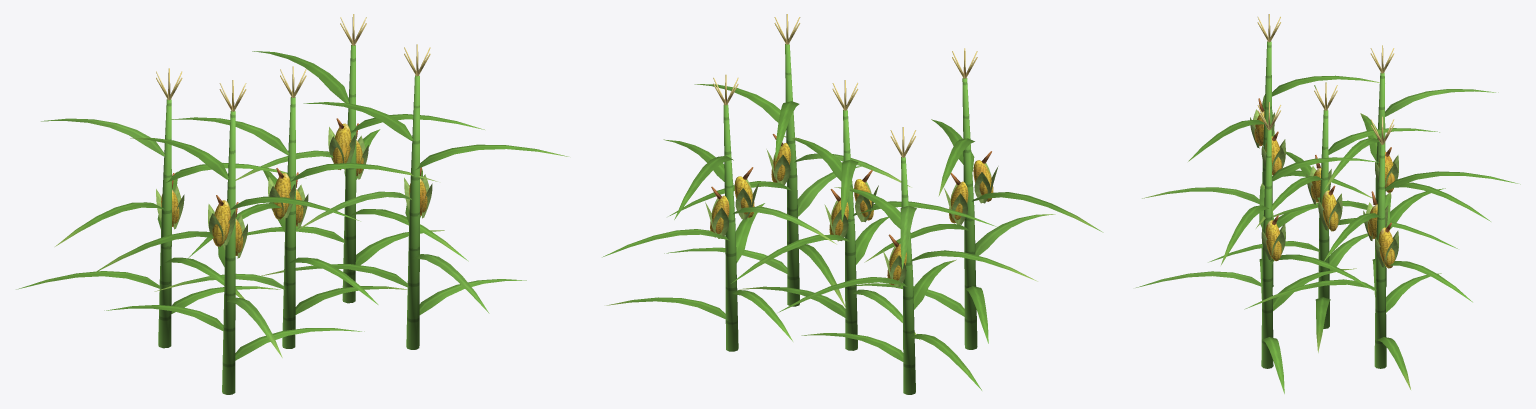
Rendered from crop_corn.glb.
3 renders of one model, left to right at view 1: azimuth 30°, elevation 25°; view 2: azimuth 150°, elevation 25°; view 3: azimuth 270°, elevation 25°, orthographic. The views are drawn at different scales.
Parts seen in each view (by area): view 1: P1_leaf, P0_leaf, P2_leaf, P3_leaf, P4_leaf, P1_stem, P0_stem, P3_stem, P2_stem, P4_stem, P0_fruit1, P4_fruit1 (+3 smaller); view 2: P3_leaf, P4_leaf, P2_leaf, P0_leaf, P1_leaf, P0_stem, P4_stem, P1_stem, P3_stem, P2_stem, P0_fruit1, P4_fruit0 (+6 smaller); view 3: P1_leaf, P4_leaf, P2_leaf, P3_leaf, P0_leaf, P1_stem, P4_stem, P2_stem, P0_stem, P2_fruit0, P1_fruit0, P4_fruit0 (+6 smaller).
Part boxes in pixels (x1,y1,x2,y2): P1_leaf: (261, 44, 568, 314); P0_leaf: (93, 80, 364, 360); P2_leaf: (154, 66, 437, 314); P3_leaf: (16, 68, 306, 313); P4_leaf: (235, 14, 484, 265); P1_stem: (406, 75, 419, 349); P0_stem: (222, 111, 235, 394); P3_stem: (158, 99, 171, 348); P2_stem: (282, 97, 295, 348); P4_stem: (342, 45, 356, 303); P0_fruit1: (208, 195, 235, 246); P4_fruit1: (328, 118, 355, 169); P3_leaf: (778, 127, 1037, 390); P4_leaf: (602, 74, 836, 341); P2_leaf: (731, 80, 996, 340); P0_leaf: (856, 48, 1103, 343); P1_leaf: (664, 14, 911, 307); P0_stem: (962, 78, 977, 349); P4_stem: (723, 104, 738, 351); P1_stem: (785, 43, 799, 306); P3_stem: (901, 157, 915, 394); P2_stem: (843, 109, 857, 350); P0_fruit1: (973, 151, 998, 203); P4_fruit0: (705, 186, 729, 238); P1_leaf: (1136, 102, 1379, 393); P4_leaf: (1244, 116, 1520, 389); P2_leaf: (1208, 82, 1457, 352); P3_leaf: (1273, 45, 1498, 296); P0_leaf: (1142, 14, 1379, 298); P1_stem: (1261, 129, 1273, 368); P4_stem: (1374, 144, 1386, 368); P2_stem: (1318, 109, 1329, 328); P0_stem: (1261, 41, 1273, 286); P2_fruit0: (1318, 185, 1342, 231); P1_fruit0: (1261, 215, 1285, 261); P4_fruit0: (1375, 222, 1398, 268).
Bounding box in the file's own units: 2.47 × 1.58 × 2.06.
Materials: 1 (1 with a texture image).
